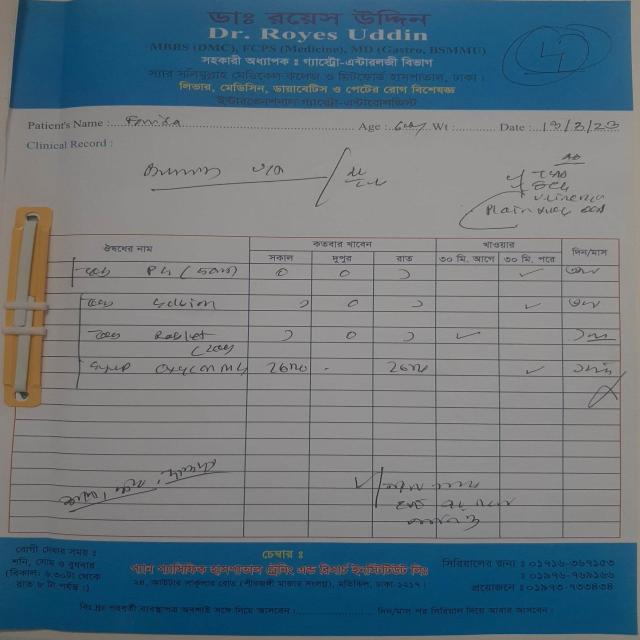medicine: (151, 362, 249, 376), (148, 294, 222, 312), (147, 327, 219, 344), (140, 262, 182, 280)
